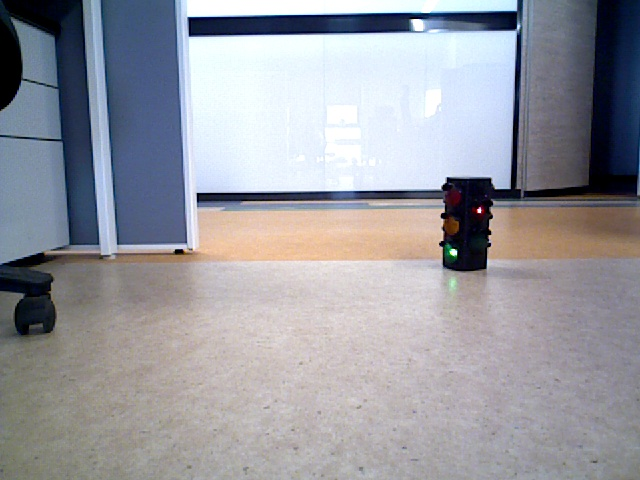green: (443, 178, 485, 264)
